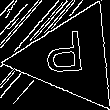P_S: (47, 31, 93, 85)
